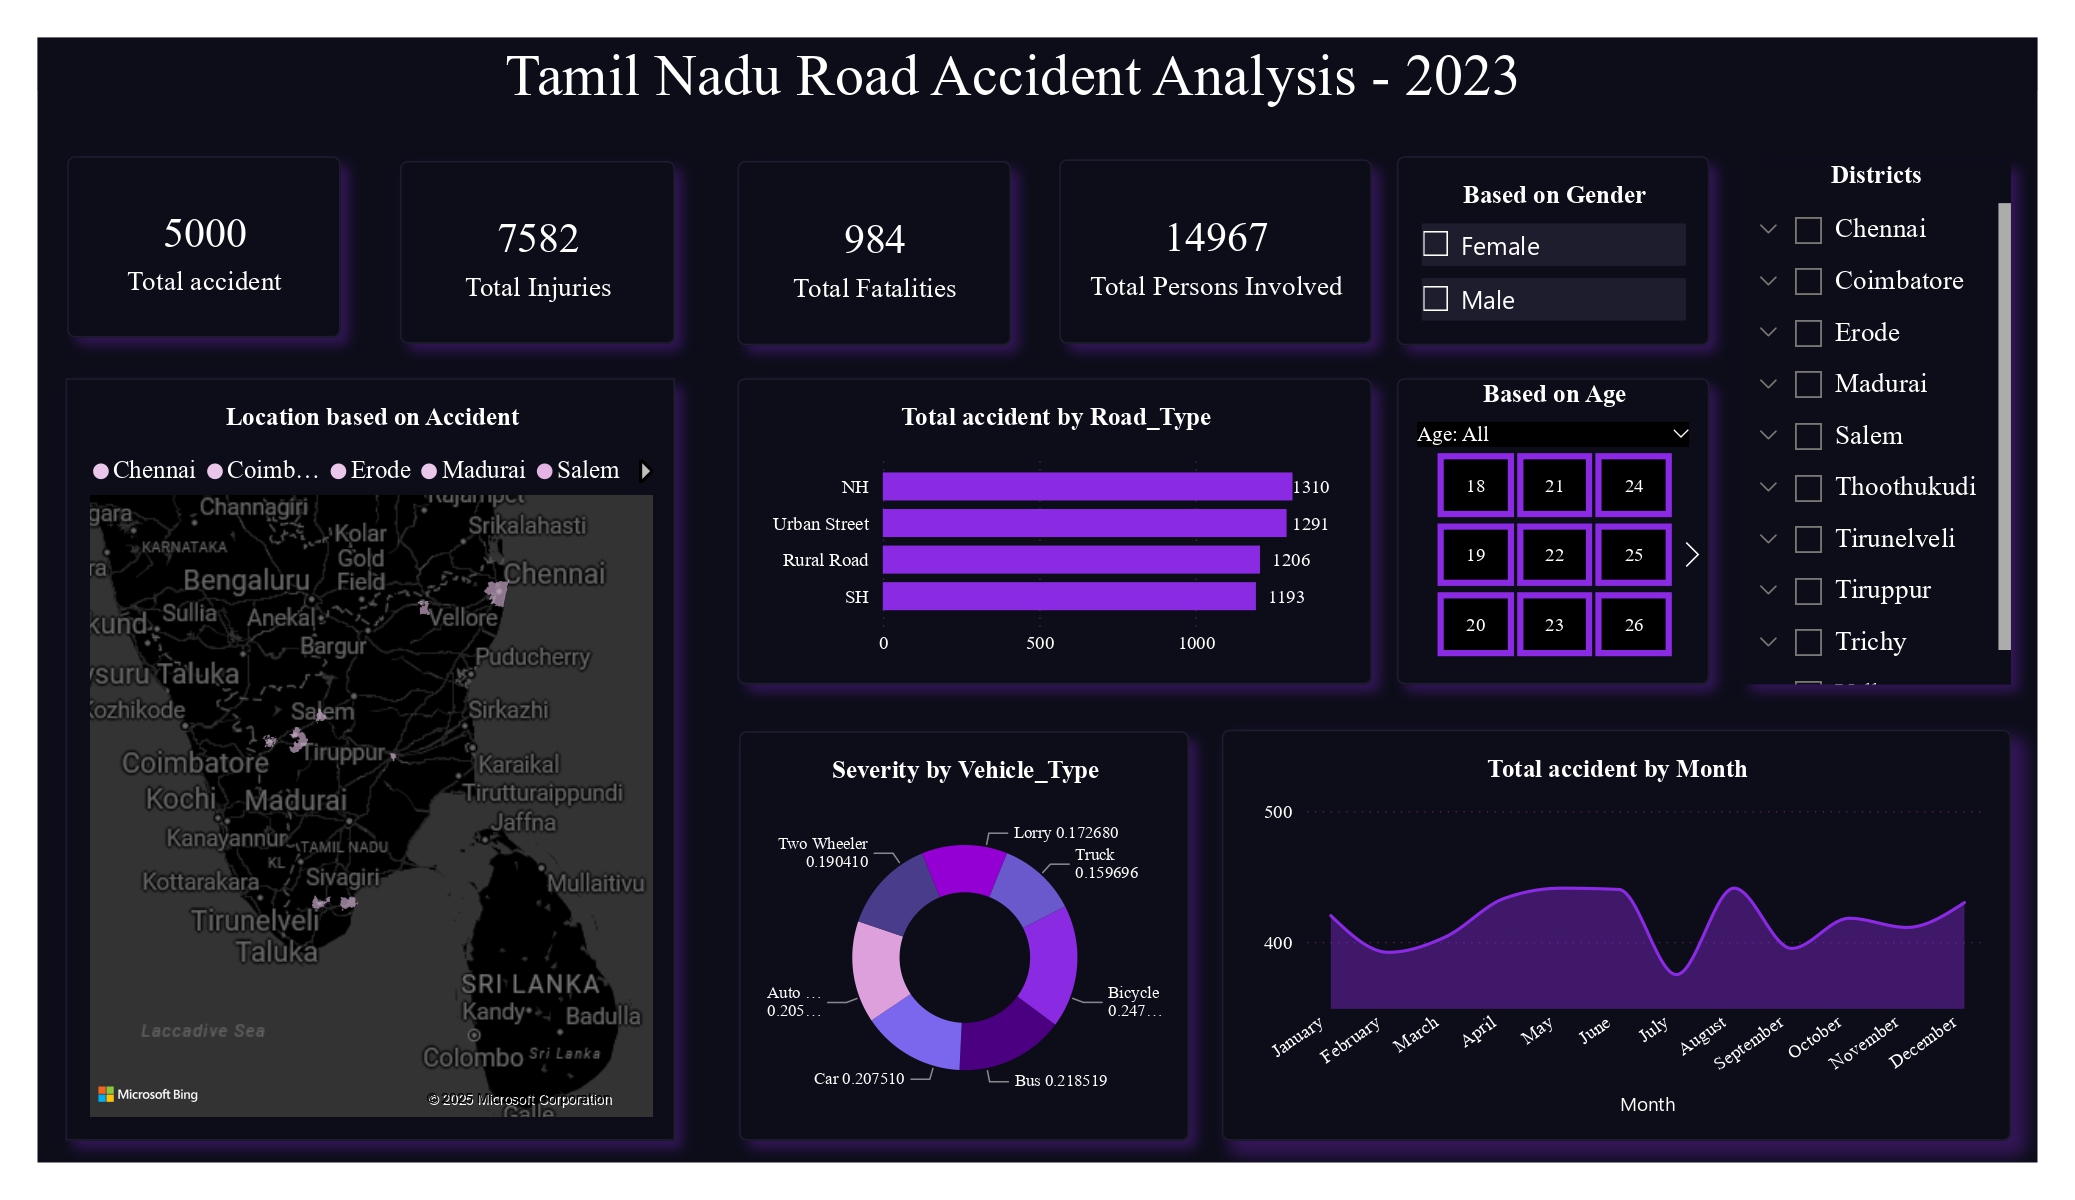

The page's visual inventory and layout, read from the dashboard file:
{"tool":"powerbi","page":{"name":"Page 1","canvas":[1280,720],"ordinal":0},"visuals":[{"type":"card","fields":{"Values":["TamilNadu_RoadAccidents_2023_Detailed.total accident"]},"box":[18.9,75.6,175.6,116.7],"z":0},{"type":"textbox","box":[18.6,2.9,1211.4,62.9],"z":1000},{"type":"card","fields":{"Values":["TamilNadu_RoadAccidents_2023_Detailed.Total Fatalities"]},"box":[447.8,78.9,175.6,117.8],"z":2000},{"type":"card","fields":{"Values":["TamilNadu_RoadAccidents_2023_Detailed.Total Injuries"]},"box":[232.2,78.9,175.6,116.7],"z":3000},{"type":"card","fields":{"Values":["TamilNadu_RoadAccidents_2023_Detailed.Total Persons Involved"]},"box":[654,78,200,118],"z":4000},{"type":"clusteredBarChart","fields":{"Category":["TamilNadu_RoadAccidents_2023_Detailed.Road_Type"],"Y":["TamilNadu_RoadAccidents_2023_Detailed.total accident"]},"box":[447.5,217.5,406.2,196.2],"z":5000},{"type":"donutChart","fields":{"Category":["TamilNadu_RoadAccidents_2023_Detailed.Vehicle_Type"],"Y":["TamilNadu_RoadAccidents_2023_Detailed.Severity"]},"box":[448.9,444.4,287.8,261.1],"z":6000},{"type":"slicer","title":"Districts","fields":{"Values":["TamilNadu_RoadAccidents_2023_Detailed.District","TamilNadu_RoadAccidents_2023_Detailed.Road_Type","TamilNadu_RoadAccidents_2023_Detailed.Vehicle_Type","TamilNadu_RoadAccidents_2023_Detailed.Weather"]},"box":[1091,79,172,335],"z":7000},{"type":"slicer","title":"Based on Age","fields":{"Values":["TamilNadu_RoadAccidents_2023_Detailed.Age"]},"box":[870,218,200,196],"z":8000},{"type":"lineChart","fields":{"Y":["TamilNadu_RoadAccidents_2023_Detailed.Total accident"],"Category":["TamilNadu_RoadAccidents_2023_Detailed.Date.Variation.Date Hierarchy.Month"]},"box":[758,443,505,263],"z":9000},{"type":"listSlicer","title":"Based on Gender","fields":{"Values":["TamilNadu_RoadAccidents_2023_Detailed.Gender"]},"box":[870.2,76.4,200.1,120.4],"z":10000},{"type":"filledMap","title":"Location based on Accident","fields":{"Category":["TamilNadu_RoadAccidents_2023_Detailed.District"],"Series":["TamilNadu_RoadAccidents_2023_Detailed.District"]},"box":[17.8,217.8,390,487.8],"z":11000}]}

Visuals, with their boxes in screenshot pixels (x1, y1, x2, y2):
card - TamilNadu_RoadAccidents_2023_Detailed.total accident: {"left": 67, "top": 156, "right": 341, "bottom": 338}
textbox: {"left": 67, "top": 42, "right": 1959, "bottom": 140}
card - TamilNadu_RoadAccidents_2023_Detailed.Total Fatalities: {"left": 737, "top": 161, "right": 1012, "bottom": 345}
card - TamilNadu_RoadAccidents_2023_Detailed.Total Injuries: {"left": 400, "top": 161, "right": 675, "bottom": 343}
card - TamilNadu_RoadAccidents_2023_Detailed.Total Persons Involved: {"left": 1059, "top": 159, "right": 1372, "bottom": 344}
clusteredBarChart - TamilNadu_RoadAccidents_2023_Detailed.Road_Type x TamilNadu_RoadAccidents_2023_Detailed.total accident: {"left": 737, "top": 377, "right": 1371, "bottom": 684}
donutChart - TamilNadu_RoadAccidents_2023_Detailed.Vehicle_Type x TamilNadu_RoadAccidents_2023_Detailed.Severity: {"left": 739, "top": 732, "right": 1189, "bottom": 1140}
"Districts" slicer: {"left": 1742, "top": 161, "right": 2011, "bottom": 684}
"Based on Age" slicer: {"left": 1397, "top": 378, "right": 1709, "bottom": 684}
lineChart - TamilNadu_RoadAccidents_2023_Detailed.Total accident x TamilNadu_RoadAccidents_2023_Detailed.Date.Variation.Date Hierarchy.Month: {"left": 1222, "top": 730, "right": 2011, "bottom": 1141}
"Based on Gender" listSlicer: {"left": 1397, "top": 157, "right": 1710, "bottom": 345}
"Location based on Accident" filledMap: {"left": 65, "top": 378, "right": 675, "bottom": 1140}
